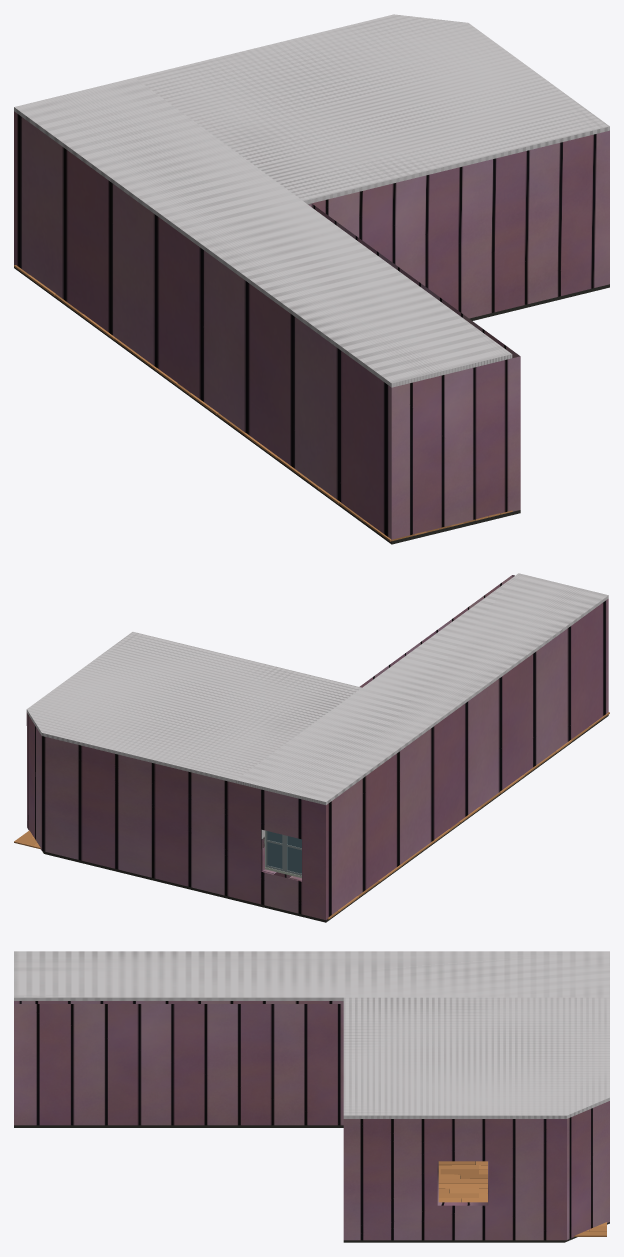
The model's file is childerns room walls.fbx.
The picture shows the model from 3 angles, top to bottom: view 1: azimuth 30°, elevation 25°; view 2: azimuth 150°, elevation 25°; view 3: azimuth 270°, elevation 25°; orthographic projection. The views are drawn at different scales.
Visible parts, largest first — view 1: childrens room walls, children room ceiling, children room ceiling.001, childrens room floor.001; view 2: childrens room walls, children room ceiling, children room ceiling.001, stuff children room.001, childrens room floor.001, childrens room floor; view 3: childrens room walls, children room ceiling, children room ceiling.001, wood planks childrens room, childrens room floor.001, childrens room floor.
Boxes of the visible parts, x1,y1,x2,y2 form: childrens room walls: (14,111,609,539); children room ceiling: (135,14,609,204); children room ceiling.001: (14,77,512,387); childrens room floor.001: (14,267,520,544); childrens room walls: (26,575,608,919); children room ceiling: (26,632,361,783); children room ceiling.001: (236,573,608,804); stuff children room.001: (264,830,301,878); childrens room floor.001: (229,715,608,922); childrens room floor: (42,851,229,898); childrens room walls: (14,1001,609,1240); children room ceiling: (343,997,609,1118); children room ceiling.001: (14,951,609,1000); wood planks childrens room: (438,1161,606,1236); childrens room floor.001: (14,1125,343,1127); childrens room floor: (343,1161,609,1242).
Bounding box in the file's own units: 15.92 × 5.71 × 24.27.
Materials: 10 (1 with a texture image).
